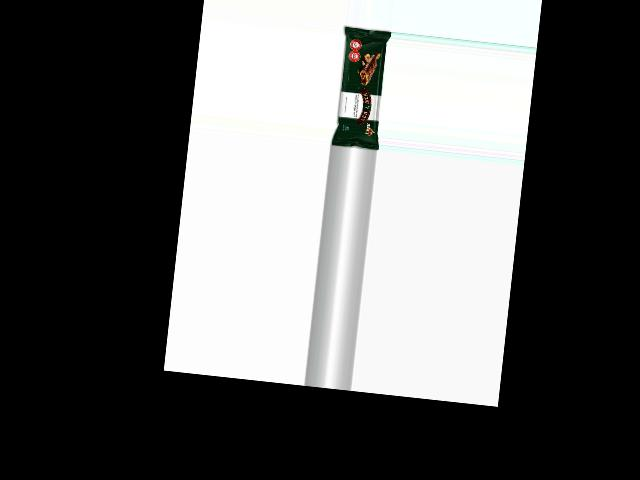chocolate: (329, 25, 391, 152)
